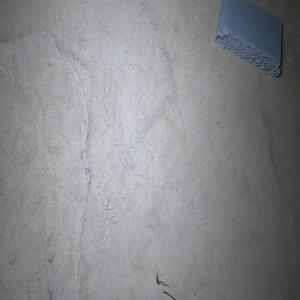PlasticPart: (214, 0, 282, 78)
